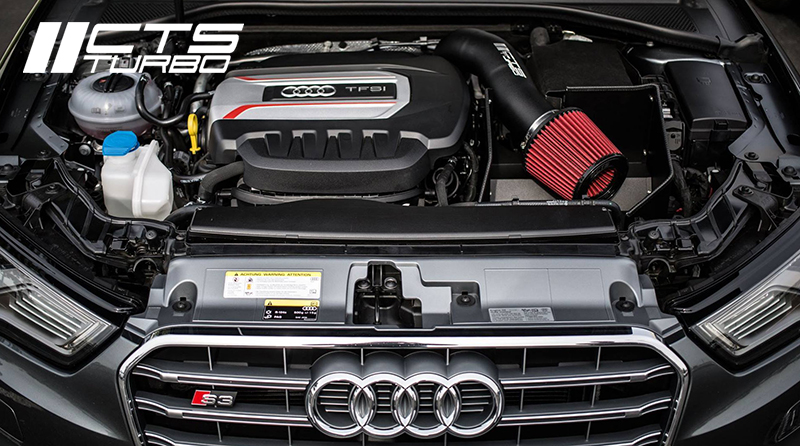audi: (294, 357, 513, 445)
